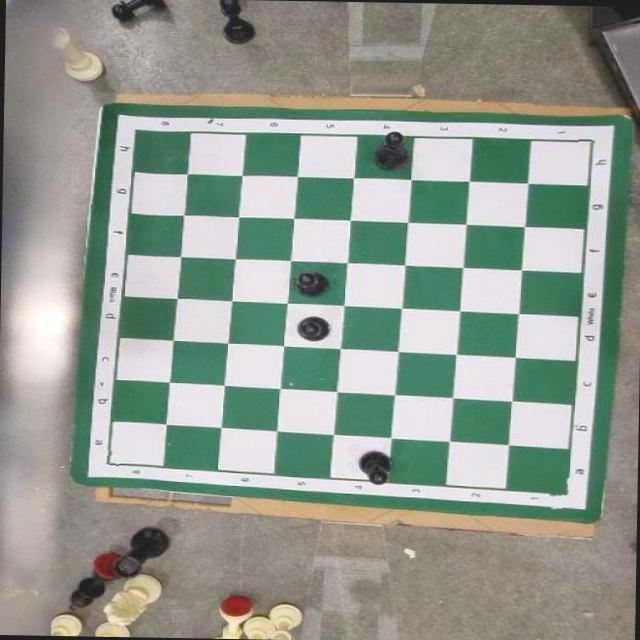chess-table-corners: (548, 476, 580, 509), (120, 118, 152, 144), (576, 128, 604, 156), (97, 449, 120, 475)
